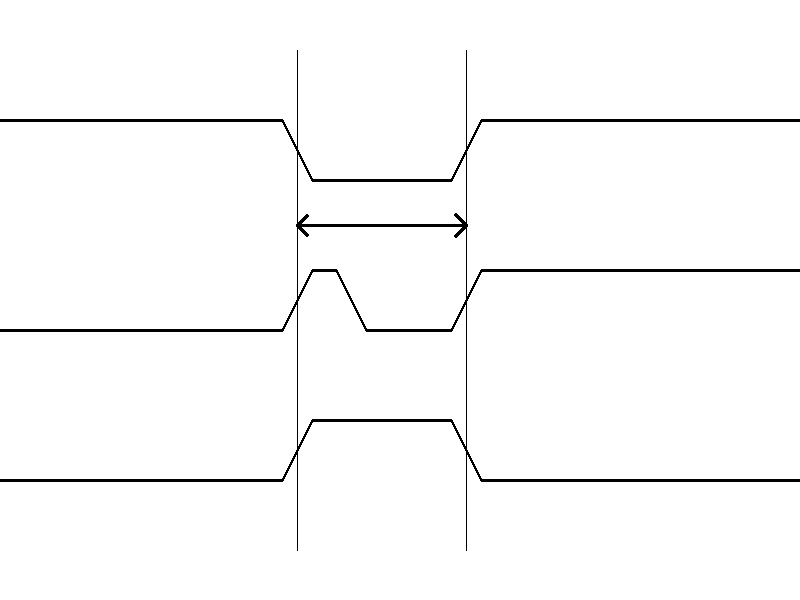double_arrow: (297, 210, 466, 240)
